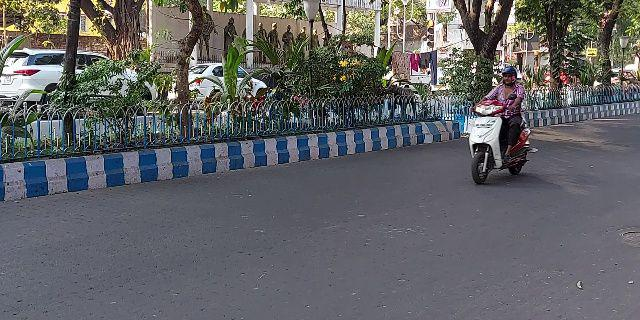Motorbike: (464, 63, 539, 189)
